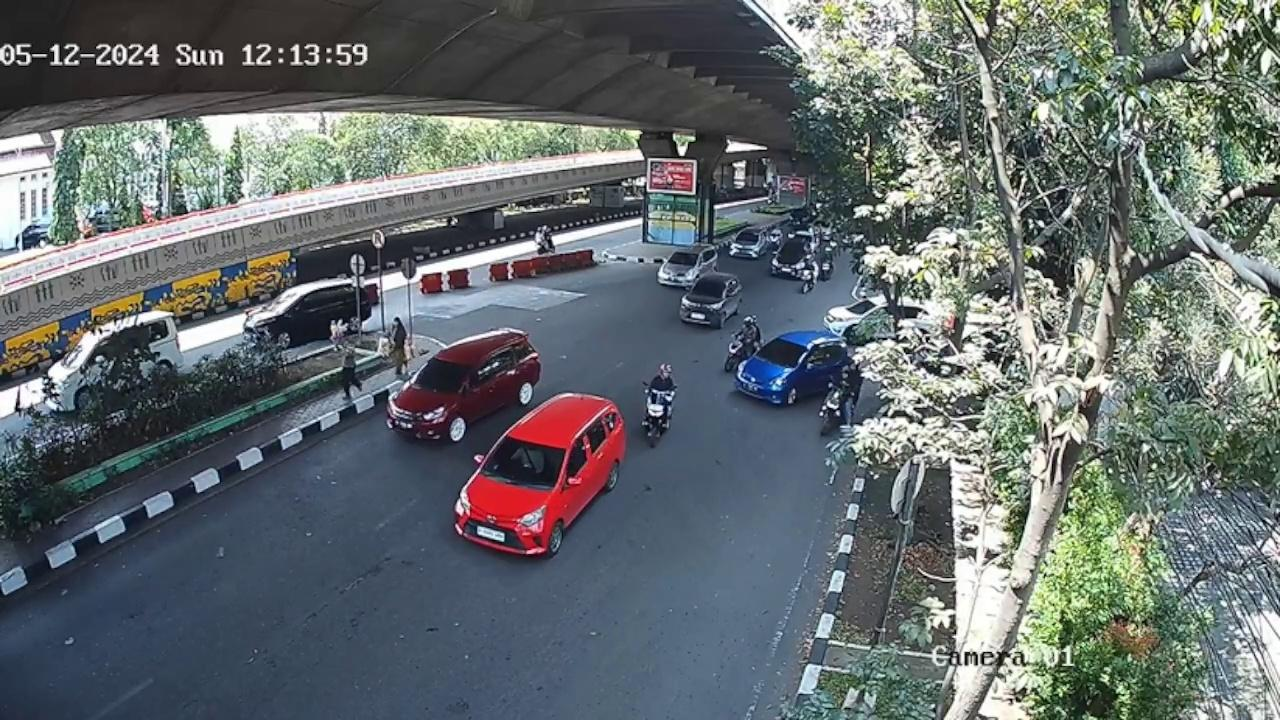pakai: (510, 446, 546, 473)
windshield: (480, 435, 564, 488), (406, 357, 471, 393)
